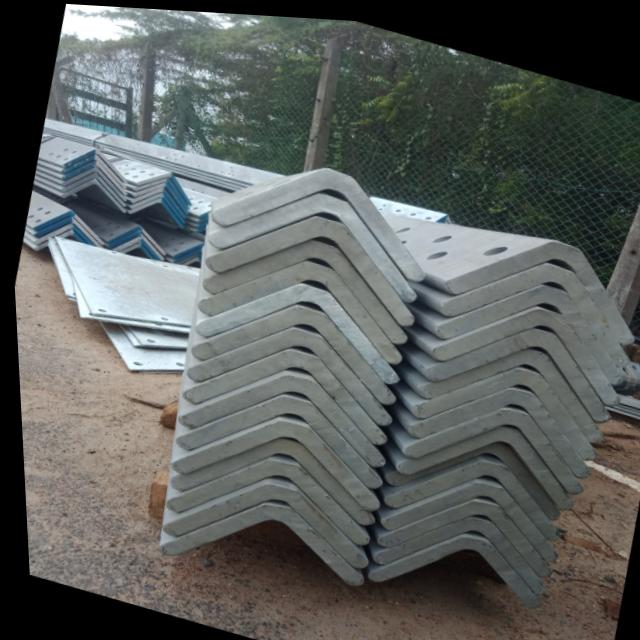metal-angles: (209, 164, 423, 277), (204, 188, 415, 298), (203, 213, 411, 321), (200, 236, 403, 338), (193, 258, 397, 359), (190, 281, 396, 379), (187, 302, 392, 400), (183, 325, 387, 421), (177, 346, 382, 440), (444, 234, 631, 336), (438, 257, 624, 359), (174, 371, 381, 462), (167, 417, 374, 507), (171, 393, 376, 483), (434, 279, 618, 377), (157, 481, 362, 566), (430, 302, 614, 396), (413, 343, 600, 435), (161, 456, 363, 541), (164, 436, 368, 520), (406, 363, 593, 453), (422, 323, 605, 414), (155, 501, 358, 581), (404, 384, 585, 469), (400, 403, 578, 487), (392, 421, 569, 503), (375, 475, 553, 556), (379, 455, 555, 534), (380, 436, 555, 514), (372, 495, 545, 570), (368, 513, 539, 587), (360, 531, 535, 601), (31, 209, 102, 244), (60, 146, 126, 181), (60, 159, 125, 194), (59, 171, 124, 205), (59, 177, 123, 211), (60, 153, 124, 187), (60, 166, 124, 199), (30, 216, 100, 246), (134, 170, 189, 203), (128, 185, 184, 217), (132, 175, 188, 207), (128, 190, 183, 221), (131, 180, 186, 211), (106, 224, 163, 253), (126, 196, 181, 226), (105, 229, 161, 258), (31, 222, 93, 245), (110, 235, 158, 258), (116, 241, 152, 258), (55, 229, 84, 242)
